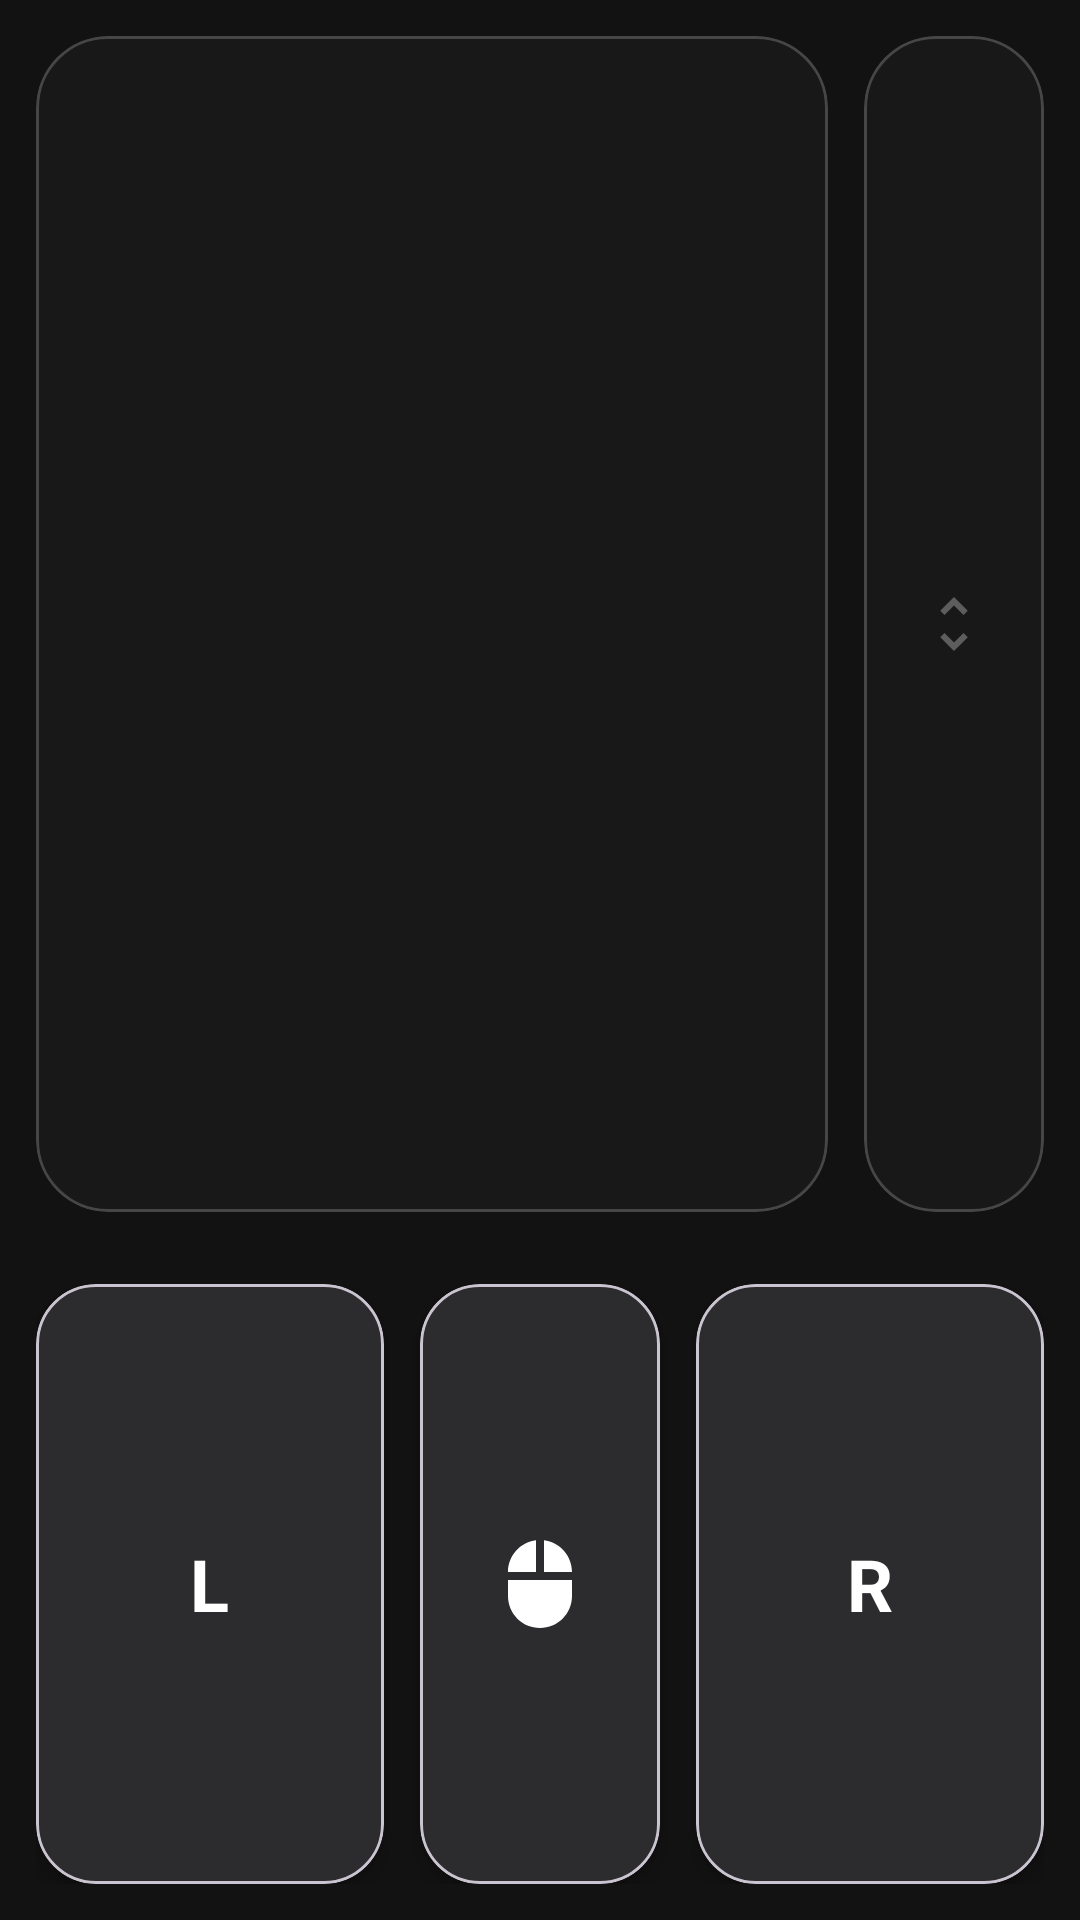

Screen size 1080px x 1920px. Icon name, then its box in pixels as (x1=x1, y1=y1, x2=x2, y2=y2):
mouse: (x1=508, y1=1540, x2=572, y2=1628)
unfold more: (x1=940, y1=597, x2=968, y2=651)
